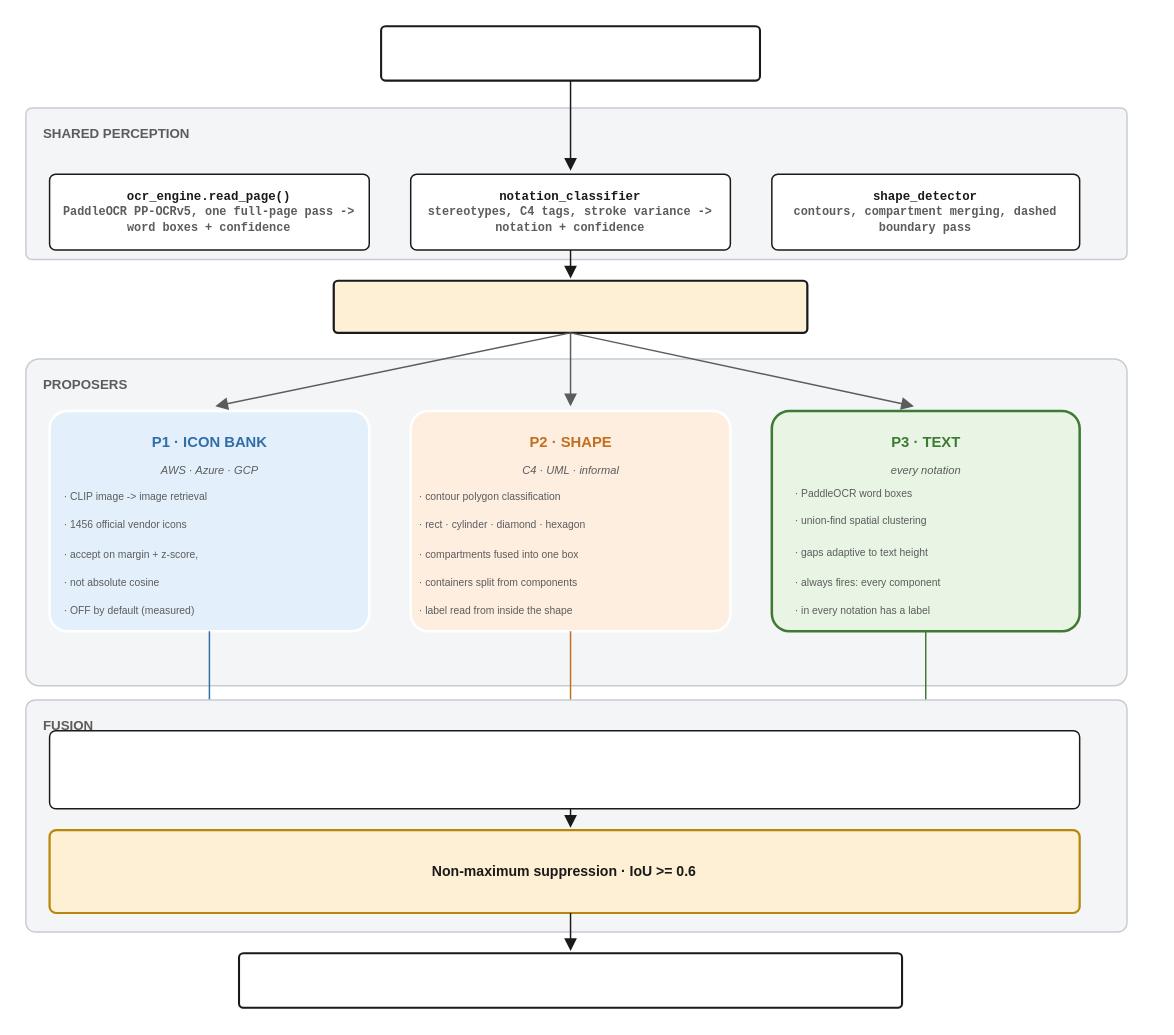
Some shapes in this 1174 by 1035 pixel diagram are drawn without their labels. The centre of each missing label's shape, as x and y in pixels:
"components[] -> ArchitectureSchema" goes at pixel 569 979.
"Diagram image raw pixels" goes at pixel 569 52.
"Merge rules" goes at pixel 564 769.
"notation_profiles.profile_for() rules applied only above confidence 0.7" goes at pixel 570 306.
